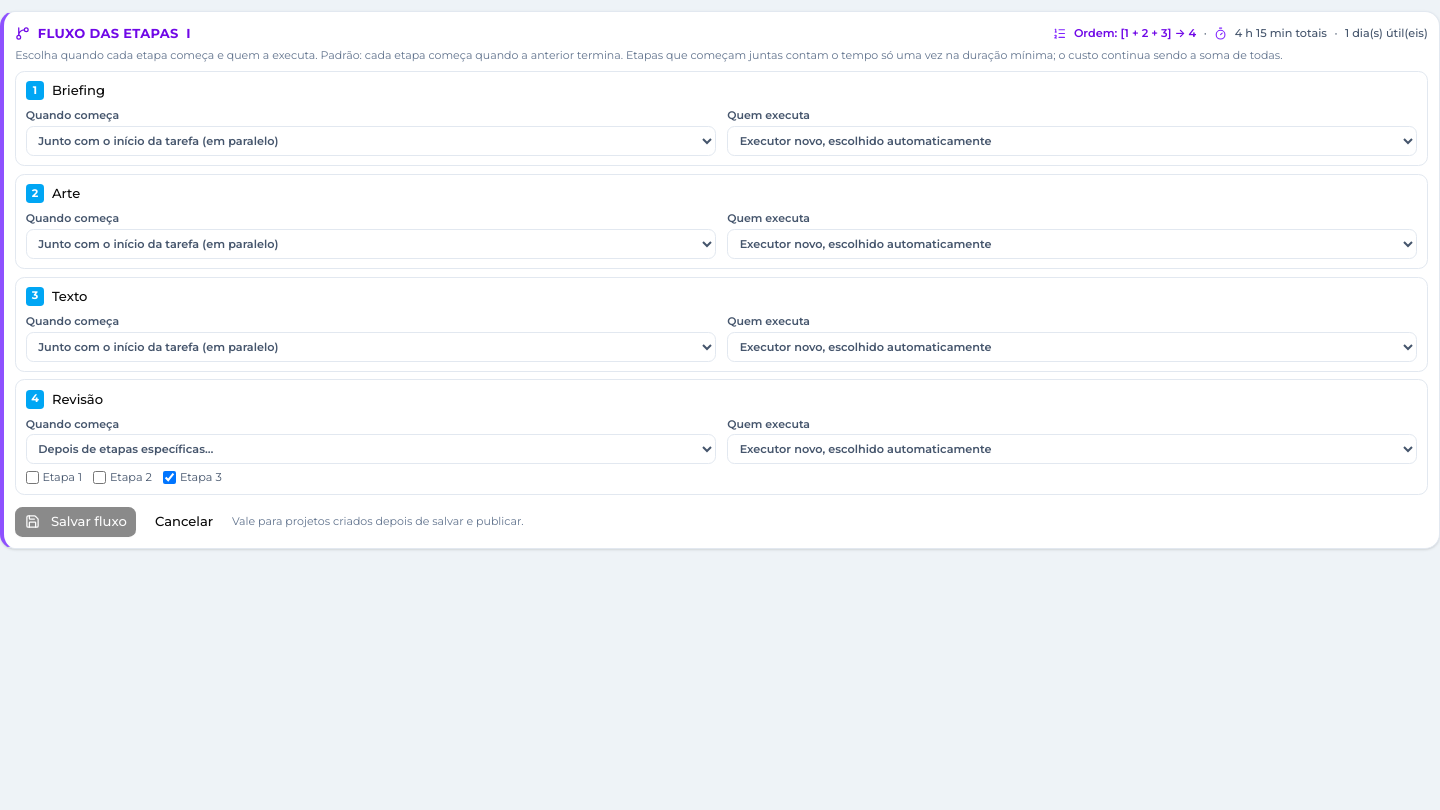
Fluxo das etapas (A8) · editor › 'só depois da 3' e 'mesmo executor da 3': só oferece etapas que terminam antes; bloqueia salvar sem escolher
The image size is (1440, 810).
Select "Mesmo executor de outra etapa" in the dropdown named "Quem executa a etapa 4" at (1072, 449), box [727,434,1417,464]
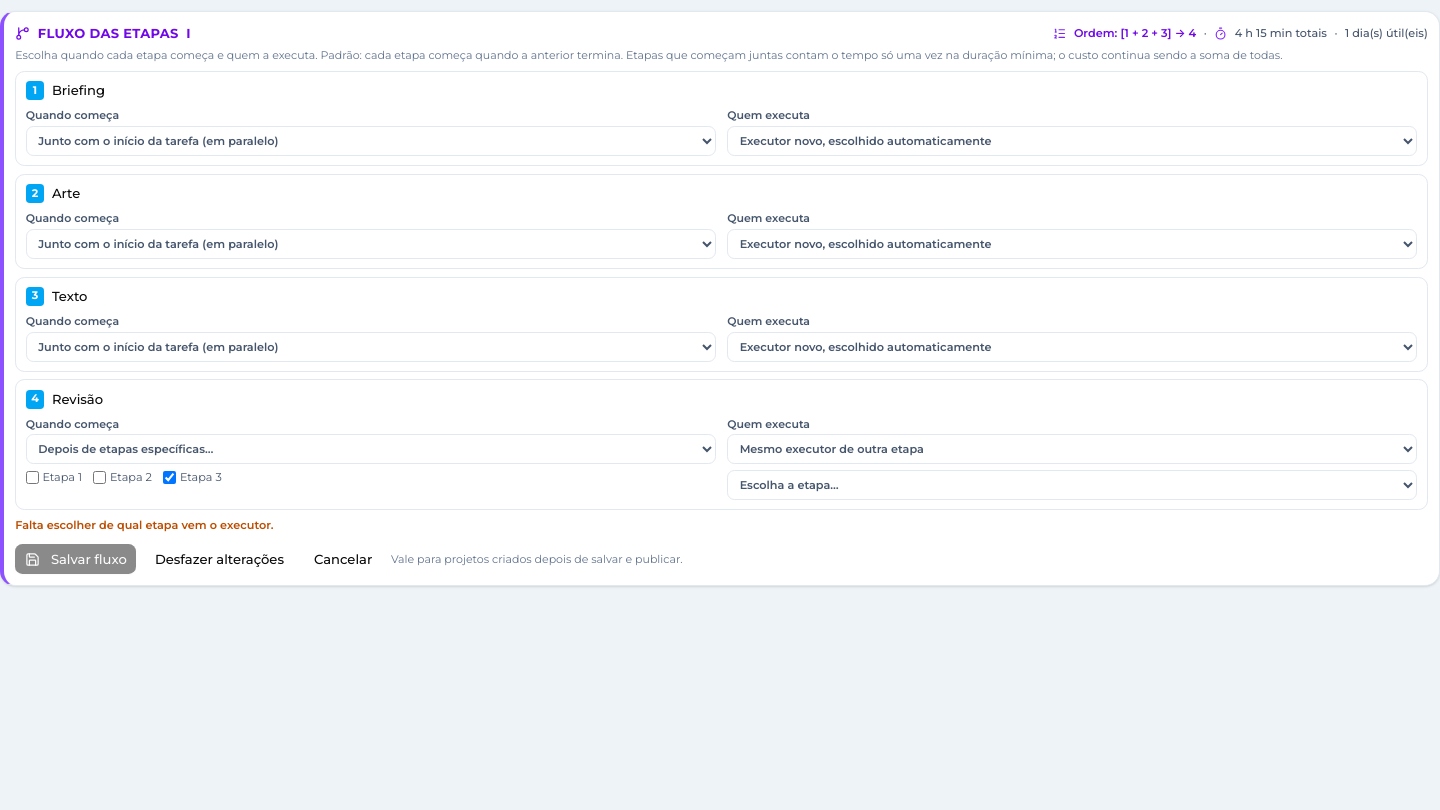
Expected: the text "Falta escolher de qual etapa vem o executor." is shown, [15,518,274,532]
Select "Etapa 3 — Texto" in the dropdown named "Mesmo executor da etapa (para a etapa 4)" at (1072, 485), box [727,470,1417,500]
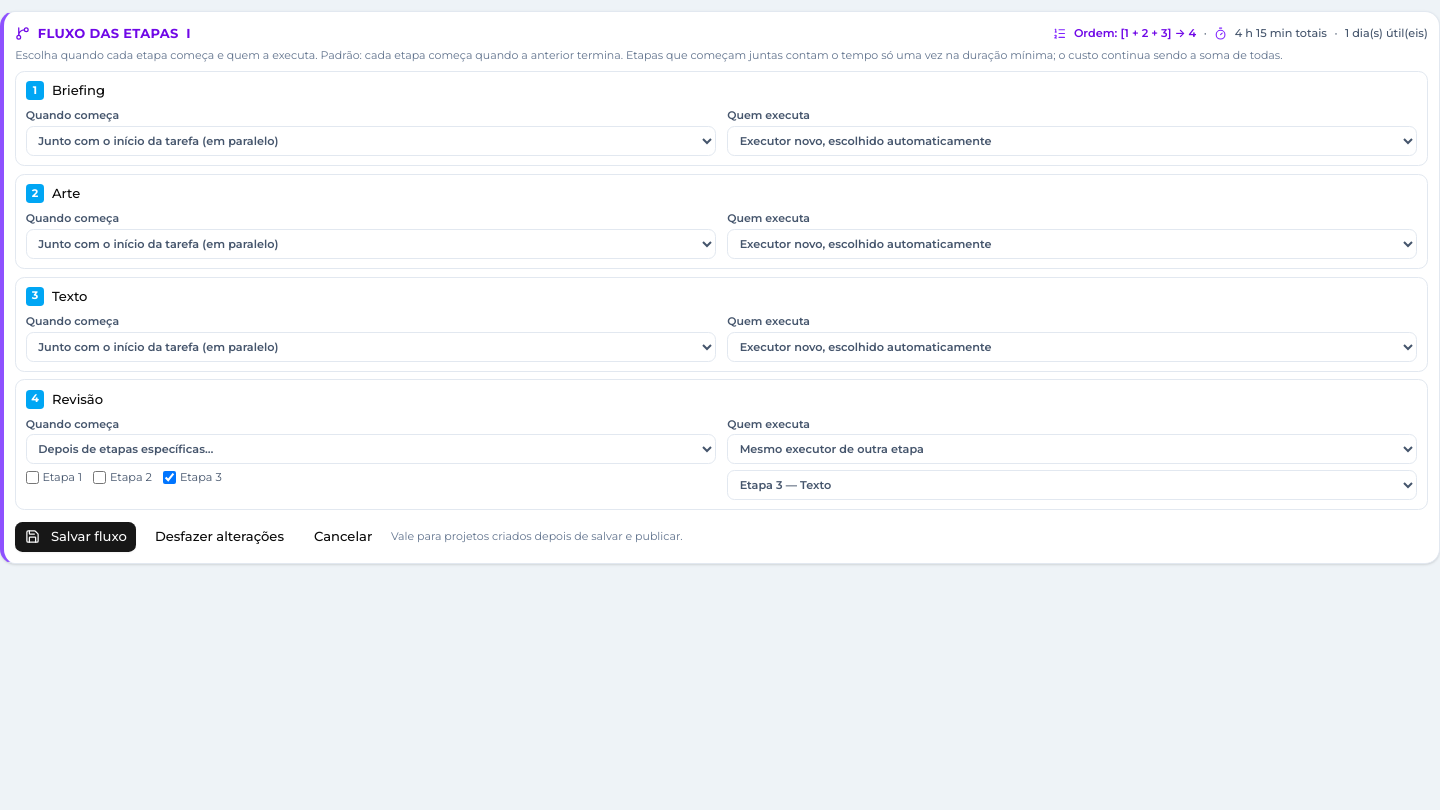
Expected: the text "Falta escolher de qual etapa" is gone
